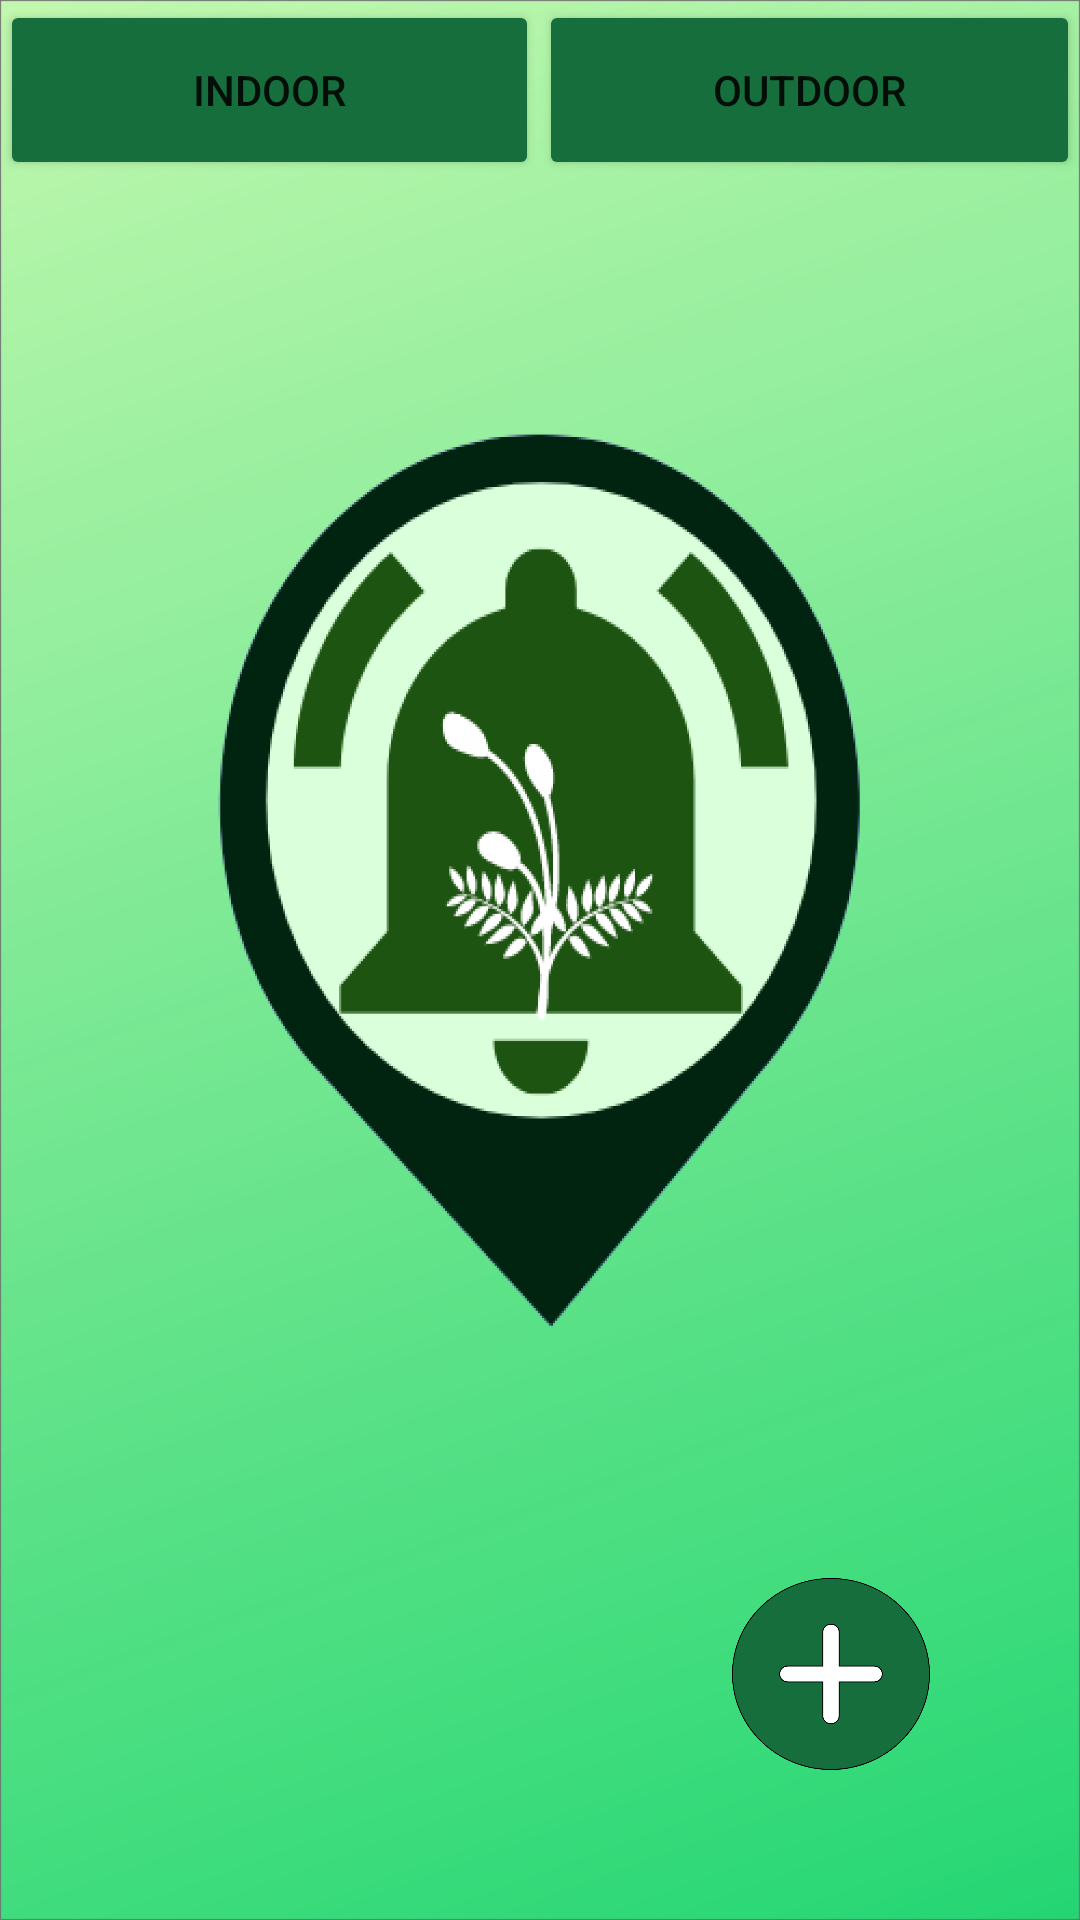

Locate icon controls on the screen. Image size 1080w x 1920h, boxes as (x1, y1, x2, y2).
addbtn: (732, 1578, 930, 1770)
